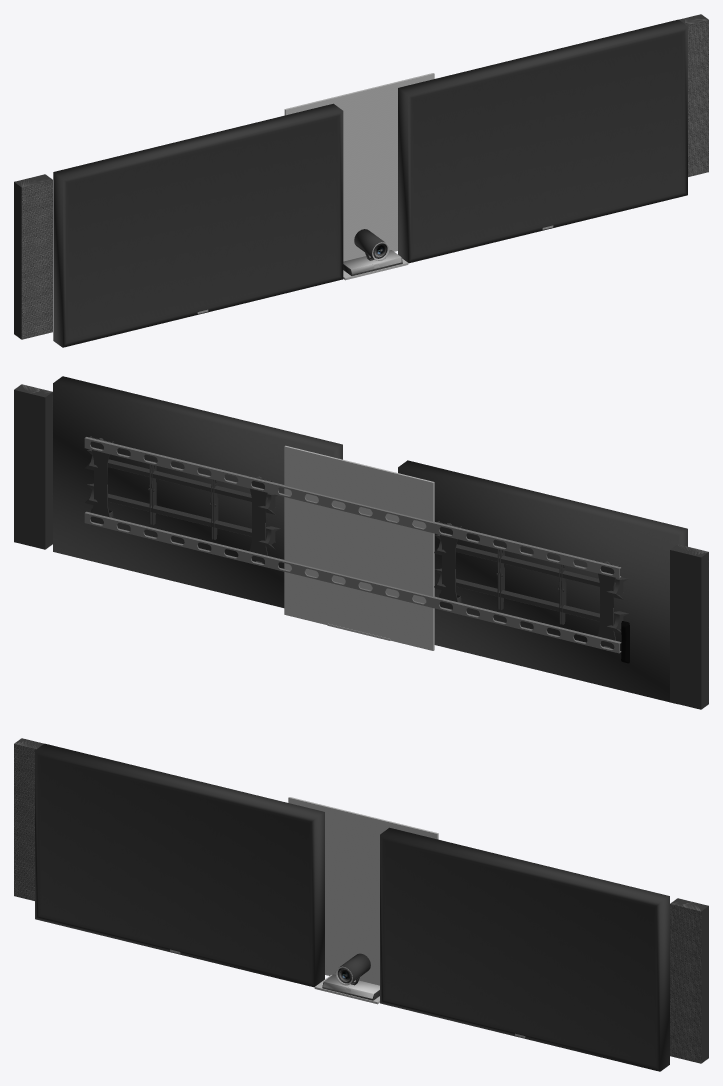
The model's file is Room_TV.FBX.
The picture shows the model from 3 angles, top to bottom: view 1: azimuth 30°, elevation 25°; view 2: azimuth 150°, elevation 25°; view 3: azimuth 330°, elevation 25°; orthographic projection.
Visible parts, largest first — view 1: tv2, tv, shelf, tv karkas2, tv karkas, Camera; view 2: tv2, tv, shelf, tv karkas2, tv karkas; view 3: tv, tv2, shelf, tv karkas, tv karkas2, Camera.
Boxes of the visible parts, x1=… form: tv2: x1=53, y1=103, x2=343, y2=347; tv: x1=398, y1=19, x2=687, y2=263; shelf: x1=284, y1=73, x2=434, y2=280; tv karkas2: x1=14, y1=174, x2=52, y2=339; tv karkas: x1=679, y1=14, x2=708, y2=176; Camera: x1=343, y1=229, x2=402, y2=275; tv2: x1=398, y1=460, x2=687, y2=704; tv: x1=53, y1=376, x2=342, y2=607; shelf: x1=284, y1=445, x2=434, y2=650; tv karkas2: x1=352, y1=502, x2=708, y2=709; tv karkas: x1=14, y1=384, x2=353, y2=588; tv: x1=380, y1=827, x2=669, y2=1071; tv2: x1=35, y1=743, x2=324, y2=987; shelf: x1=288, y1=797, x2=438, y2=1004; tv karkas: x1=670, y1=898, x2=708, y2=1063; tv karkas2: x1=14, y1=738, x2=43, y2=900; Camera: x1=322, y1=953, x2=379, y2=1000.
Size of the model in its own units: 360 by 84.44 by 20.14.
Materials: 3 (3 with a texture image).
